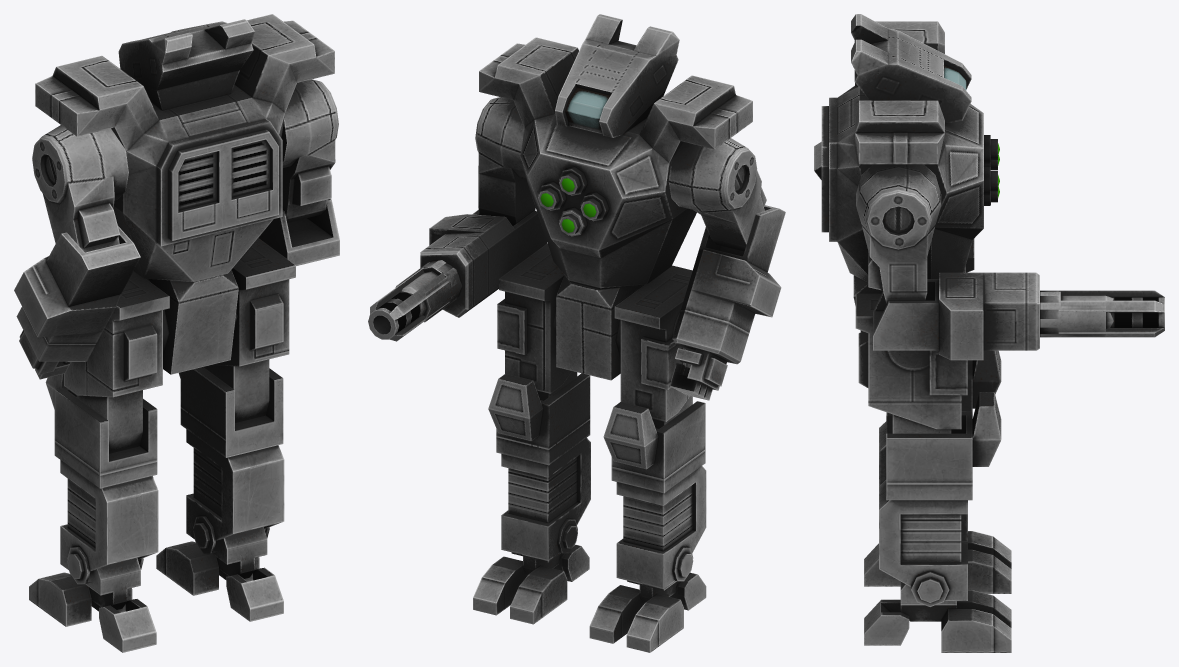
The model's file is Wolfhound.FBX.
3 renders of one model, left to right at view 1: azimuth 30°, elevation 25°; view 2: azimuth 150°, elevation 25°; view 3: azimuth 270°, elevation 25°, orthographic. The views are drawn at different scales.
Visible parts, largest first — view 1: torso, llowerleg, rlowerleg, llowerarm, lupperleg, lupperarm, rupperleg, rupperarm, pelvis, rlowerarm, lfronttoes, rfronttoes (+4 smaller); view 2: torso, llowerleg, rlowerleg, llowerarm, lupperleg, rupperleg, lupperarm, rlowerarm, pelvis, rupperarm, lfronttoes, rfronttoes (+4 smaller); view 3: torso, rlowerleg, rlowerarm, rupperarm, rupperleg, ERPPC, rfronttoes, lfronttoes, ERLBL, llowerleg, rbacktoe, rfoot (+1 smaller).
Boxes of the visible parts, x1,y1,x2,y2 form: torso: (35,14,334,281); llowerleg: (45,374,158,584); rlowerleg: (178,367,284,553); llowerarm: (14,226,140,379); lupperleg: (64,271,169,453); lupperarm: (32,125,128,252); rupperleg: (203,238,295,422); rupperarm: (281,79,338,222); pelvis: (146,270,238,374); rlowerarm: (259,199,339,265); lfronttoes: (29,572,132,626); rfronttoes: (156,541,259,595); torso: (479,14,752,288); llowerleg: (603,401,706,589); rlowerleg: (488,373,590,560); llowerarm: (670,205,785,400); lupperleg: (614,265,692,428); rupperleg: (497,243,577,400); lupperarm: (668,138,766,251); rlowerarm: (420,210,546,317); pelvis: (553,275,644,380); rupperarm: (475,97,535,225); lfronttoes: (589,585,683,652); rfronttoes: (473,556,567,624); torso: (821,14,999,282); rlowerleg: (879,392,1001,606); rlowerarm: (873,272,1039,360); rupperarm: (856,164,941,304); rupperleg: (855,293,967,433); ERPPC: (1040,290,1164,337); rfronttoes: (941,590,1011,652); lfronttoes: (968,531,1011,593); ERLBL: (1040,291,1113,336); llowerleg: (879,350,1001,541); rbacktoe: (864,599,909,645); rfoot: (900,581,956,621).
Bounding box in the file's own units: 27.29 × 49.54 × 27.37.
Materials: 1 (1 with a texture image).
